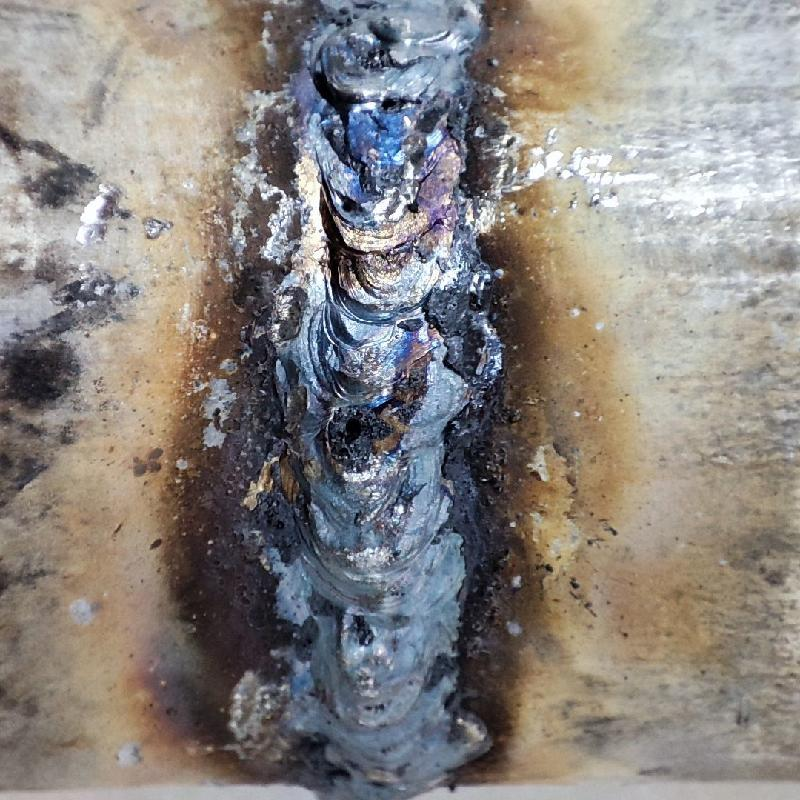Surface_pores: (325, 400, 391, 466), (370, 85, 418, 127), (323, 183, 372, 218), (394, 186, 428, 223)
